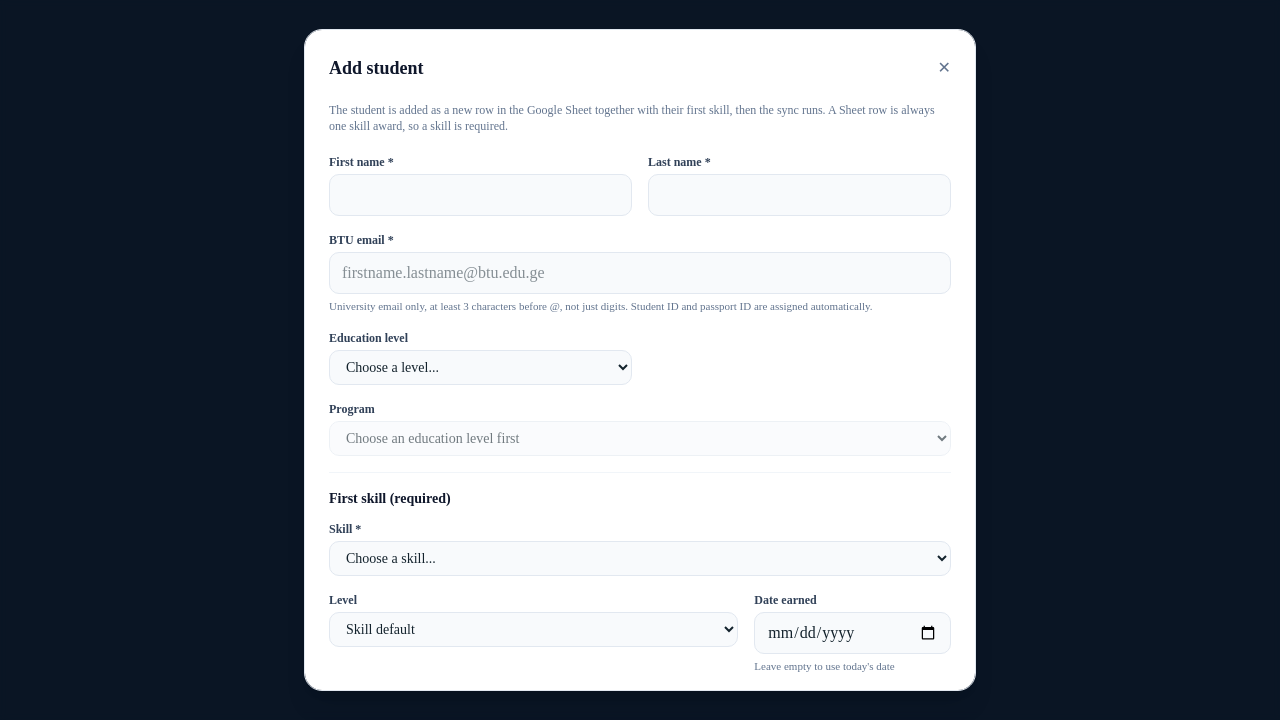
Scenario: AddStudentDialog › writes through the awards flow with the student details
Type "Nino" into the field labelled "First name *".
click(480, 195); type("Nino")  # box [329,174,632,216]
Type "Beridze" into the field labelled "Last name *".
click(800, 195); type("Beridze")  # box [648,174,951,216]
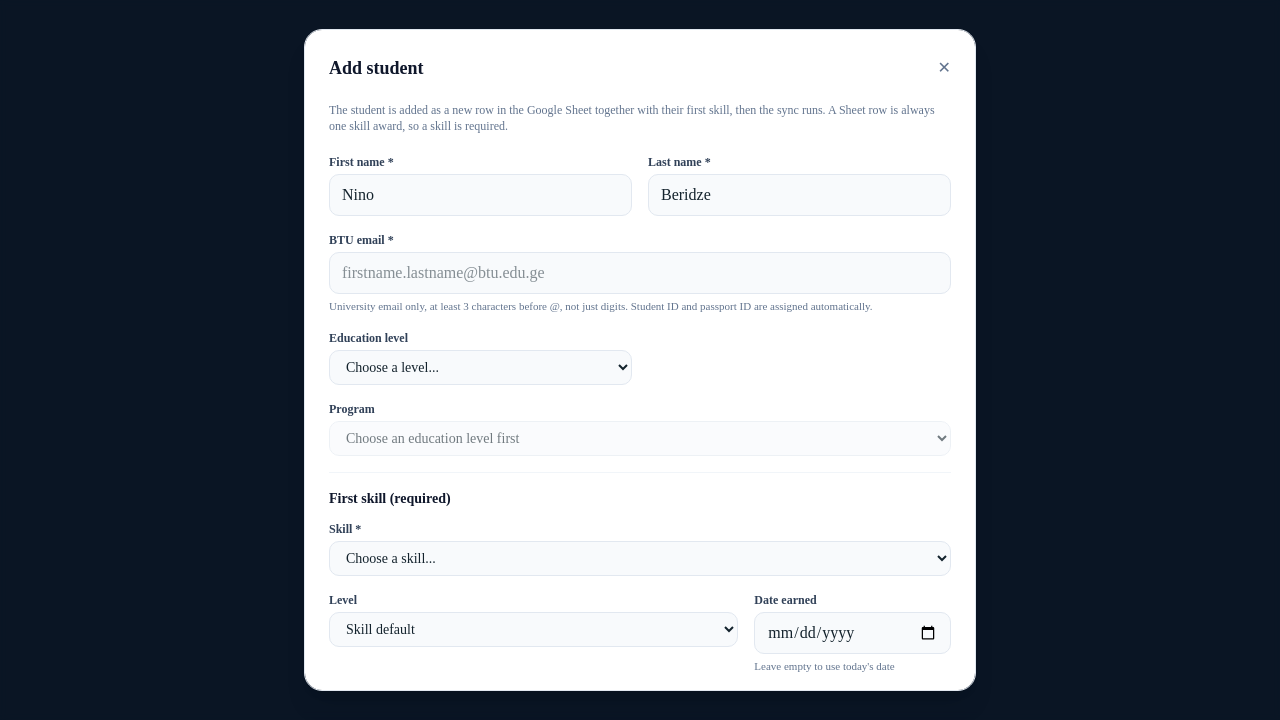
Type "Nino@btu.edu.ge" into the field labelled "BTU email *".
click(640, 273); type("Nino@btu.edu.ge")  # box [329,252,951,294]
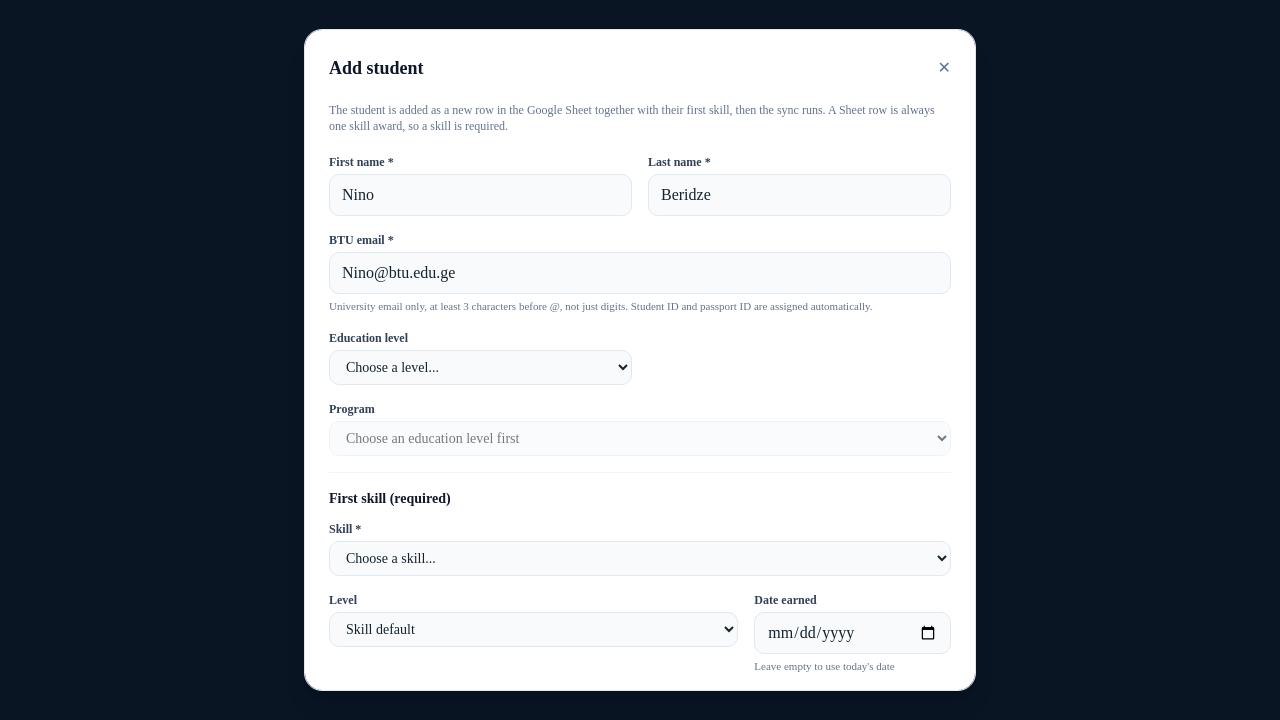
Select "Bachelor's" in the dropdown labelled "Education level" at [480, 368], box [329,350,632,385]
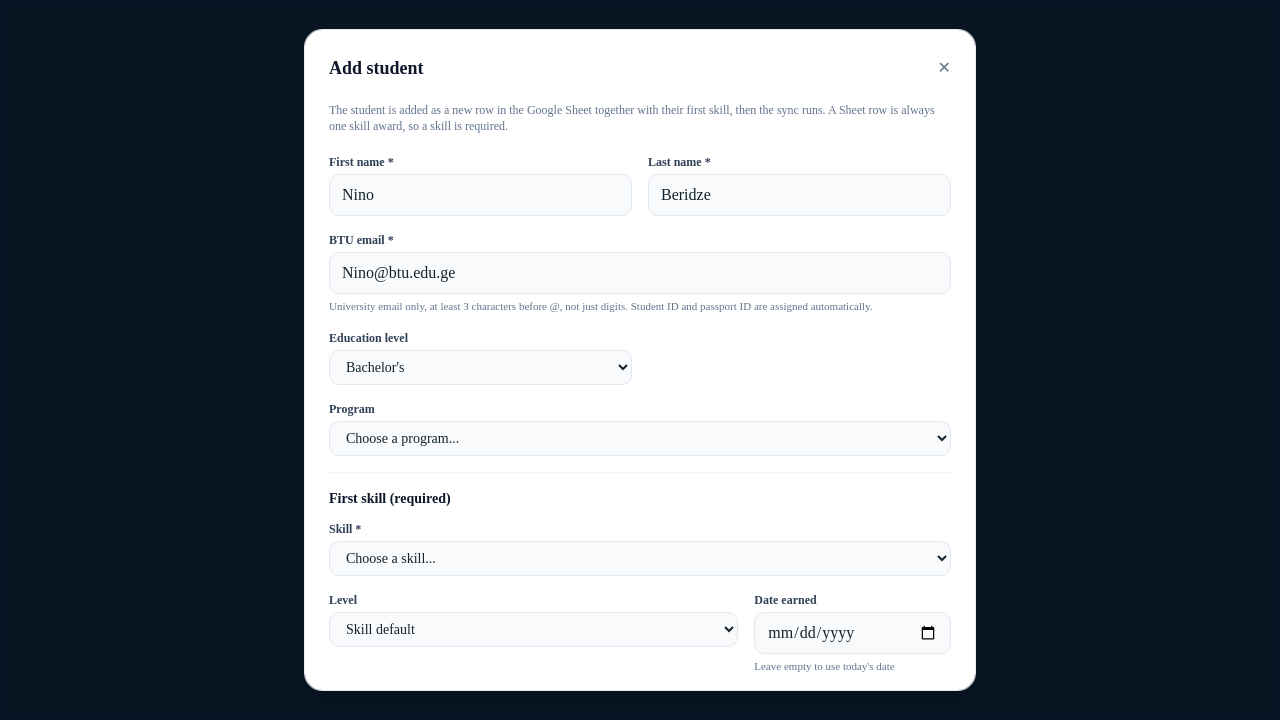
Select "Digital Marketing" in the dropdown labelled "Program" at [640, 439], box [329,421,951,456]
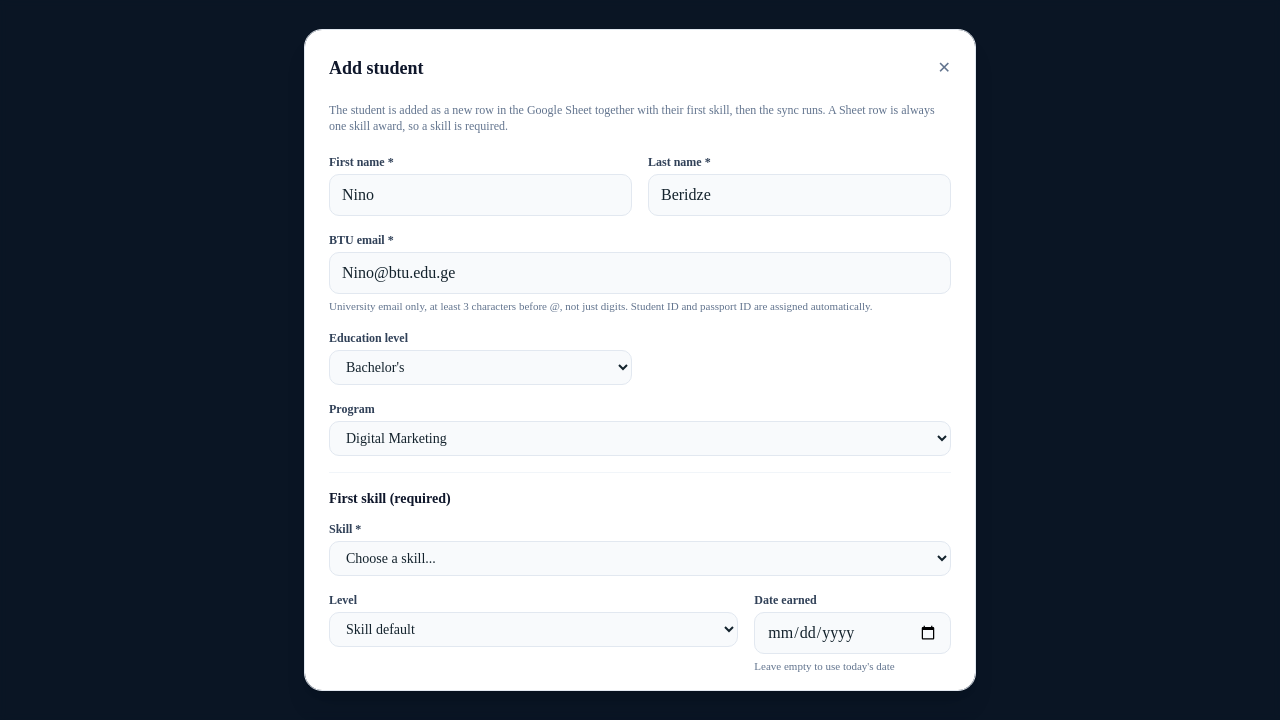
Select "SKL-001 Prompting" in the dropdown labelled "Skill *" at [640, 559], box [329,541,951,576]
(page scrolled)
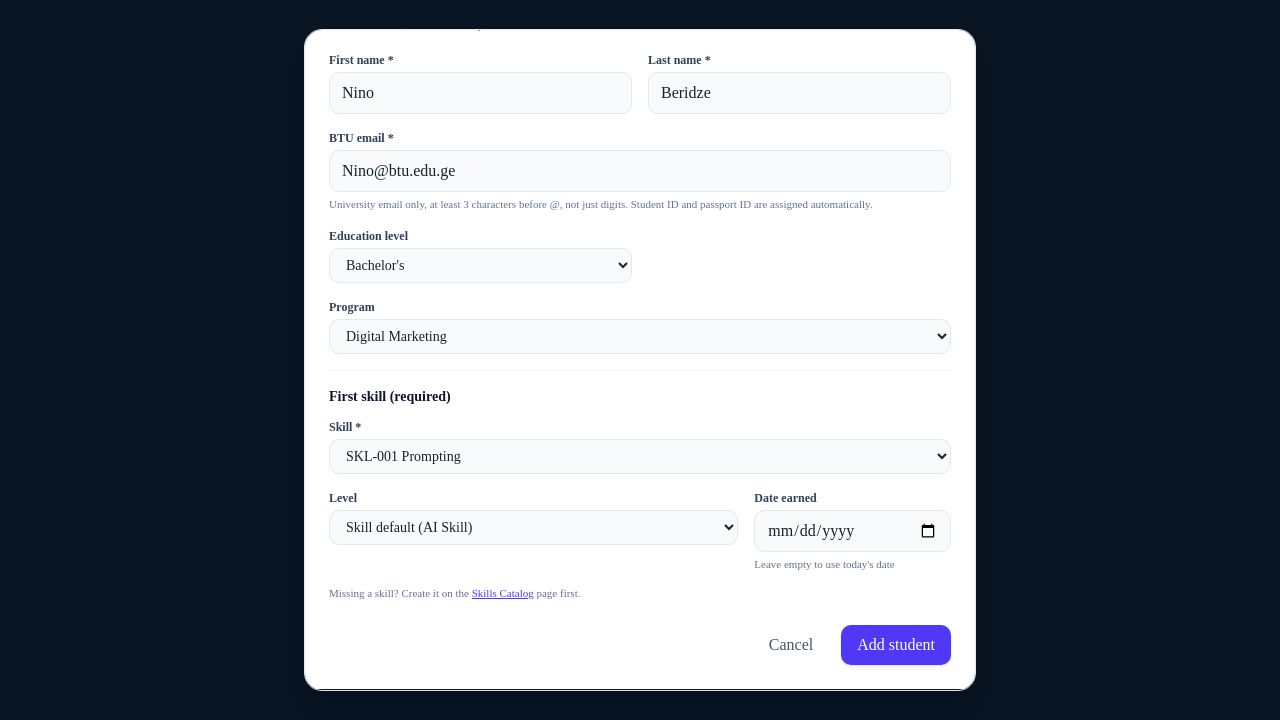
Click the button "Add student".
click(896, 645)  # box [841,625,951,665]
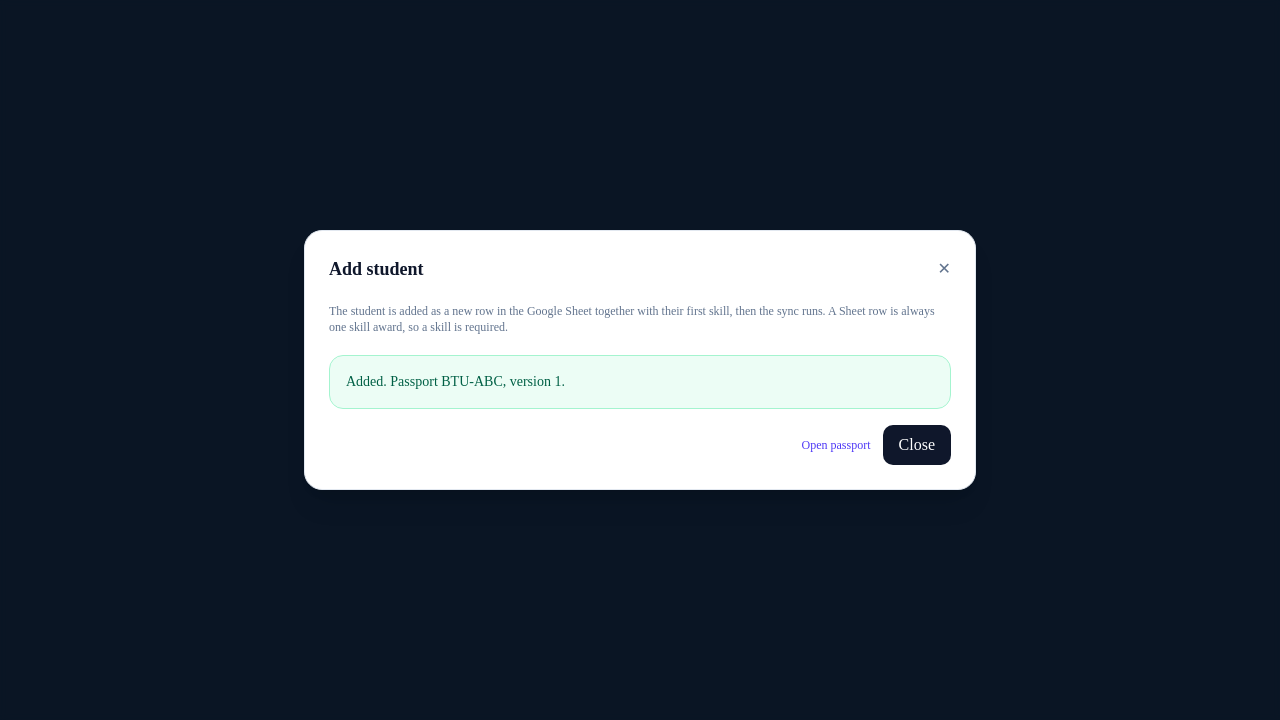
Expected: the text "BTU-ABC" is shown, [441,374,503,389]
